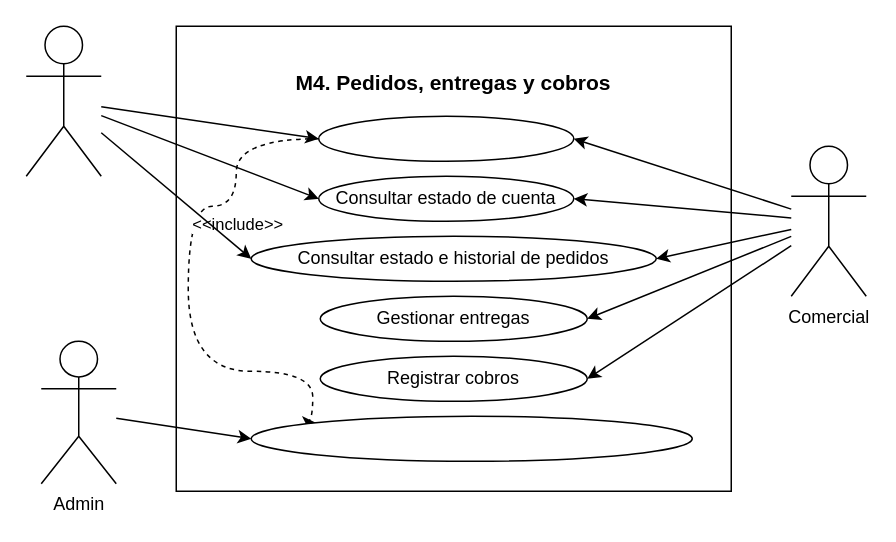
The diagram is 896 pixels wide and 542 high, and some of its shapes have lost their labels. The shapes that lost their labels are listed below. From the top down, each one's centre as x and y in pixels, then its label:
At (x=63, y=100): "Cliente".
At (x=445, y=138): "Crear pedido".
At (x=471, y=438): "Aplicar condiciones comerciales y descuentos".
